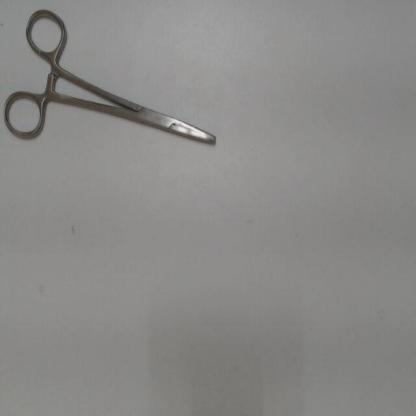Mayo Needle Holder: (0, 4, 230, 160)
